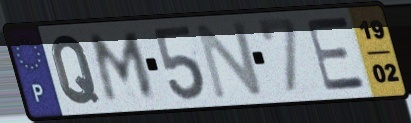5: (152, 23, 208, 103)
7: (254, 15, 306, 98)
E: (303, 14, 370, 94)
M: (88, 30, 158, 105)
N: (193, 18, 266, 102)
Q: (49, 32, 103, 107)
